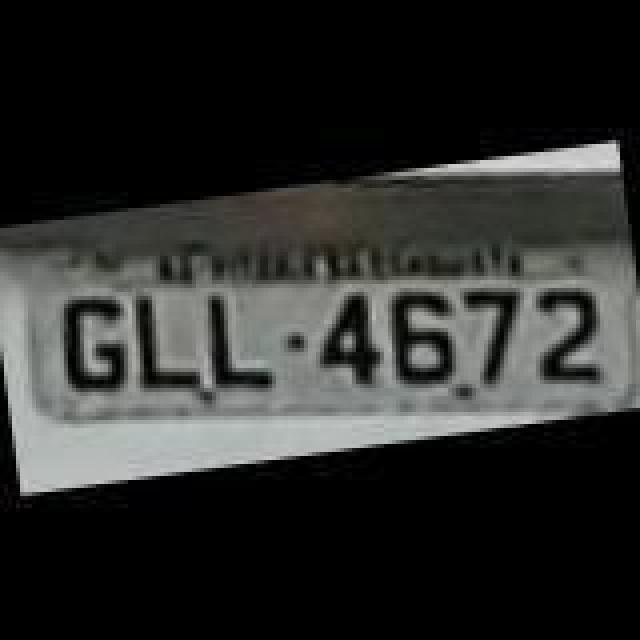2: (524, 274, 612, 390)
4: (312, 284, 392, 396)
6: (380, 280, 468, 392)
7: (452, 278, 540, 394)
G: (54, 288, 138, 400)
L: (198, 286, 282, 402), (130, 288, 206, 400)
